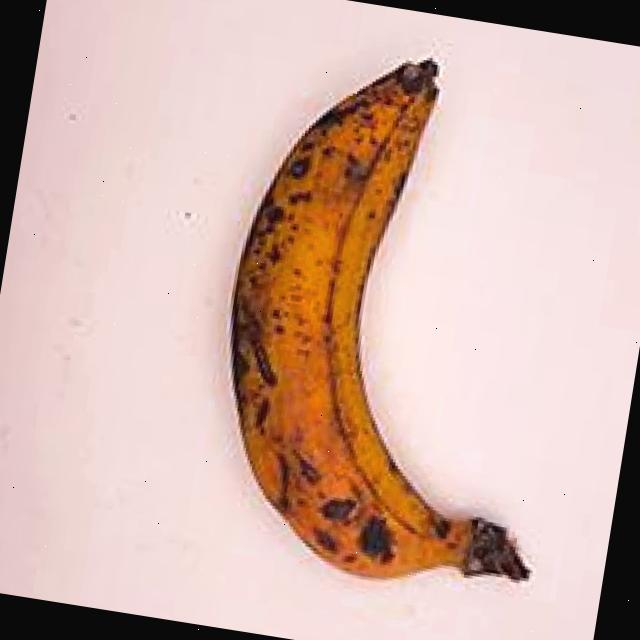Overripe: (136, 0, 619, 640)
